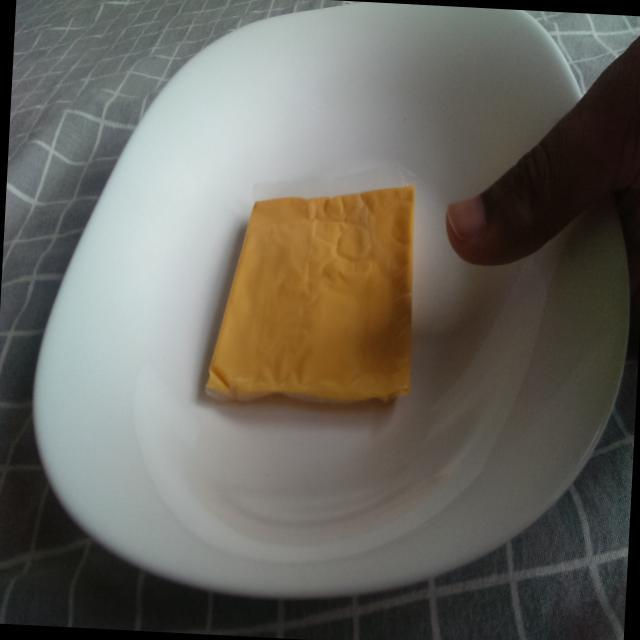Cheese: (195, 167, 425, 430)
Finger: (438, 118, 554, 280)
